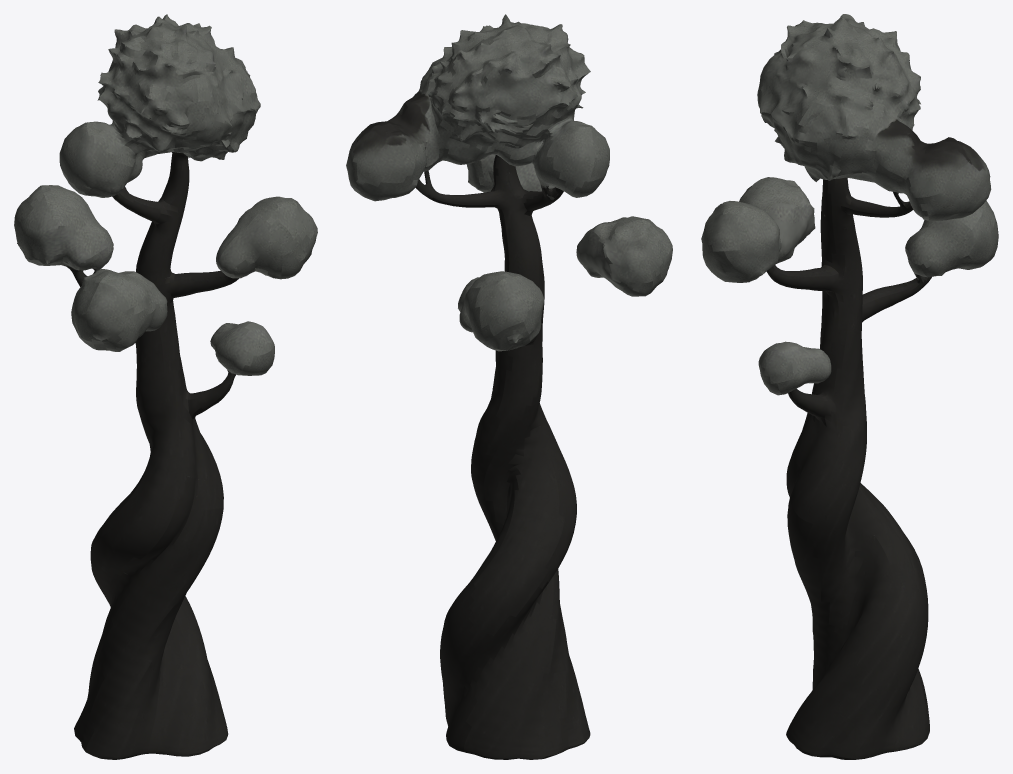
The model's file is m17-witchwood.glb.
3 renders of one model, left to right at view 1: azimuth 30°, elevation 25°; view 2: azimuth 150°, elevation 25°; view 3: azimuth 270°, elevation 25°, orthographic.
Bounding box in the file's own units: 0.6424 × 1.89 × 0.7138.
1 material, 1 textured.
